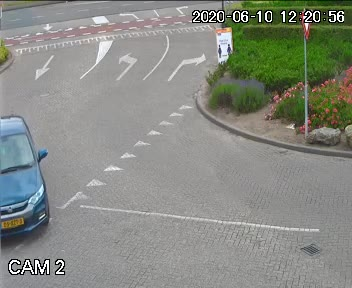car: (0, 102, 61, 246)
